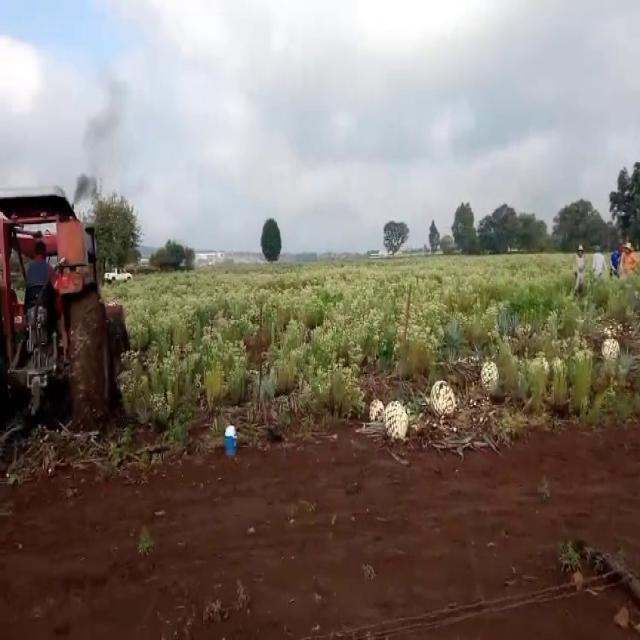agave: (427, 375, 457, 422), (385, 399, 409, 443), (601, 330, 622, 365), (479, 357, 497, 392), (368, 392, 386, 424)
